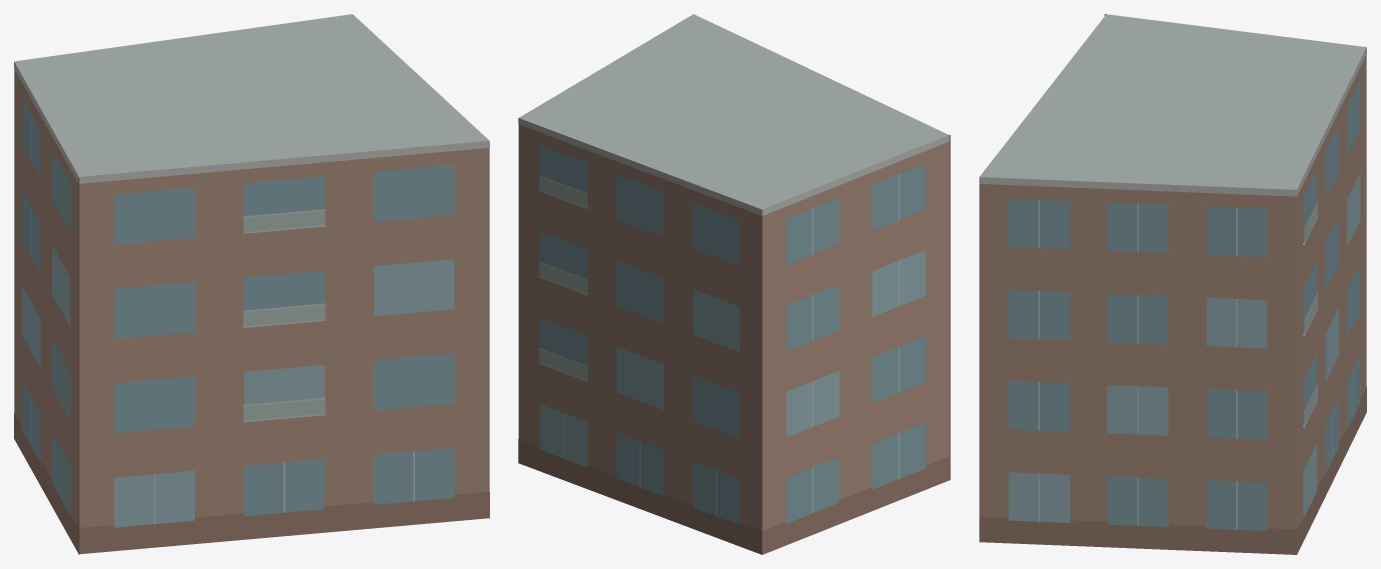
Rendered from survey-upis-32503343.glb.
3 views of the same model, side by side, from view 1: azimuth 30°, elevation 25°; view 2: azimuth 150°, elevation 25°; view 3: azimuth 270°, elevation 25° (orthographic). The views are drawn at different scales.
Visible parts, largest first — view 1: survey-upis-32503343.tmp; view 2: survey-upis-32503343.tmp; view 3: survey-upis-32503343.tmp.
Part boxes in pixels (x1=…): survey-upis-32503343.tmp: x1=14, y1=14, x2=489, y2=554; survey-upis-32503343.tmp: x1=518, y1=14, x2=950, y2=554; survey-upis-32503343.tmp: x1=979, y1=14, x2=1366, y2=554.
Size of the model in its own units: 13.61 by 13.16 by 12.68.
